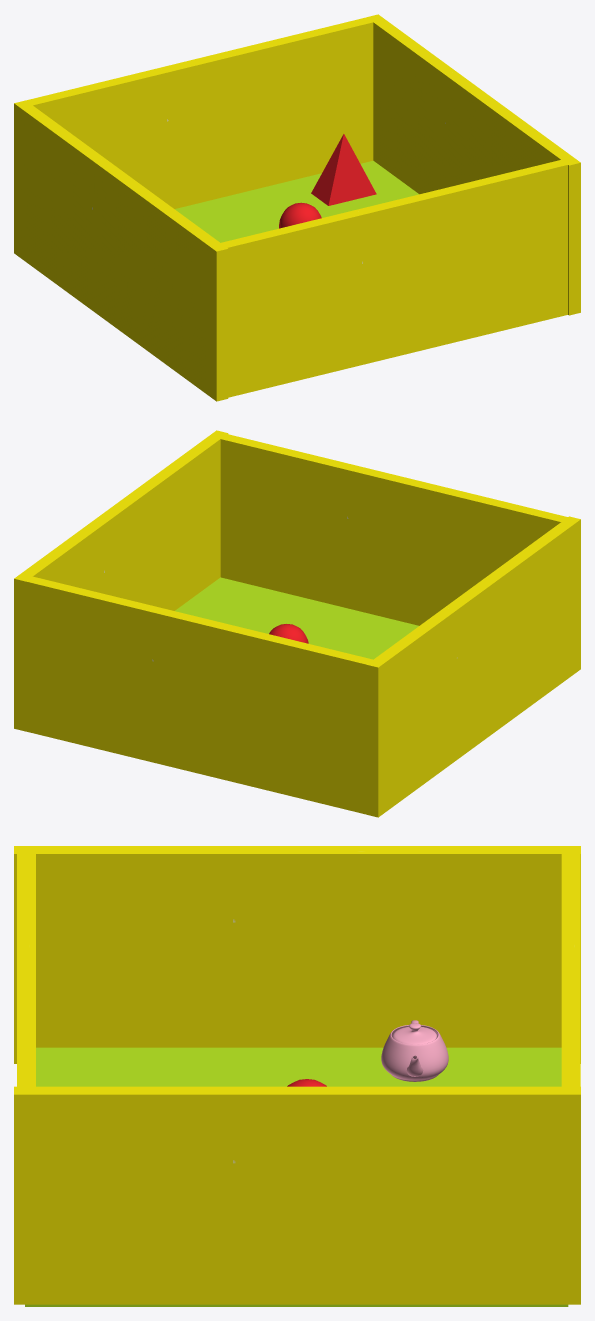
Rendered from stage2s.fbx.
3 views of the same model, one above another, from view 1: azimuth 30°, elevation 25°; view 2: azimuth 150°, elevation 25°; view 3: azimuth 270°, elevation 25° (orthographic). The views are drawn at different scales.
Parts seen in each view (by area): view 1: Box006, Box005, Box007, Box008, Box004, Pyramid001, Capsule001; view 2: Box005, Box006, Box007, Box008, Box004; view 3: Box008, Box007, Box004, Box005, Box006, Teapot001.
Part boxes in pixels (x1,y1,x2,y2): Box006: (219,157,576,397); Box005: (26,15,381,208); Box007: (14,100,228,401); Box008: (367,14,580,315); Box004: (175,160,418,242); Pyramid001: (311,134,376,205); Capsule001: (279,202,321,228); Box005: (18,574,373,814); Box006: (211,432,567,625); Box007: (366,516,580,817); Box008: (14,430,228,731); Box004: (175,577,418,659); Box008: (14,1086,580,1304); Box007: (14,846,580,1063); Box004: (25,1047,568,1306); Box005: (561,853,580,1092); Box006: (17,853,35,1090); Teapot001: (381,1020,448,1081).
Size of the model in its own units: 15392 by 6165 by 14826.
